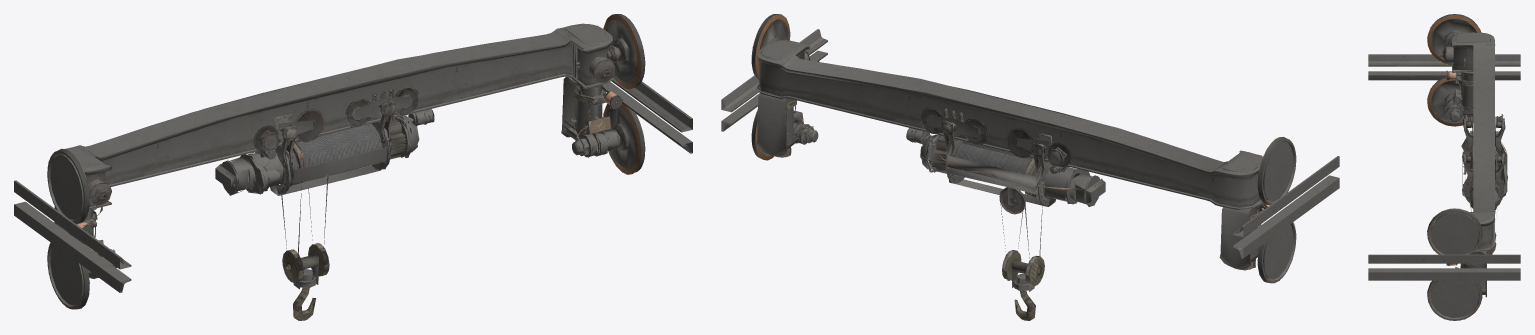
File: harbor-crane.glb
3 views of the same model, side by side, from view 1: azimuth 30°, elevation 25°; view 2: azimuth 150°, elevation 25°; view 3: azimuth 270°, elevation 25° (orthographic). The views are drawn at different scales.
Parts seen in each view (by area): view 1: harbor_crane; view 2: harbor_crane; view 3: harbor_crane.
Part boxes in pixels (x1=…): harbor_crane: x1=14, y1=14, x2=692, y2=320; harbor_crane: x1=721, y1=14, x2=1339, y2=320; harbor_crane: x1=1368, y1=14, x2=1520, y2=320.
Size of the model in its own units: 5.25 by 2.16 by 1.68.
2 materials, 2 textured.
